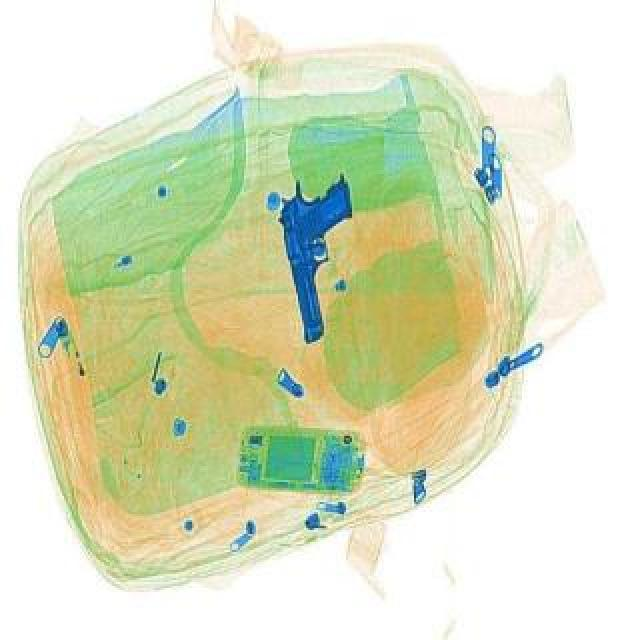gun: (270, 174, 382, 344)
